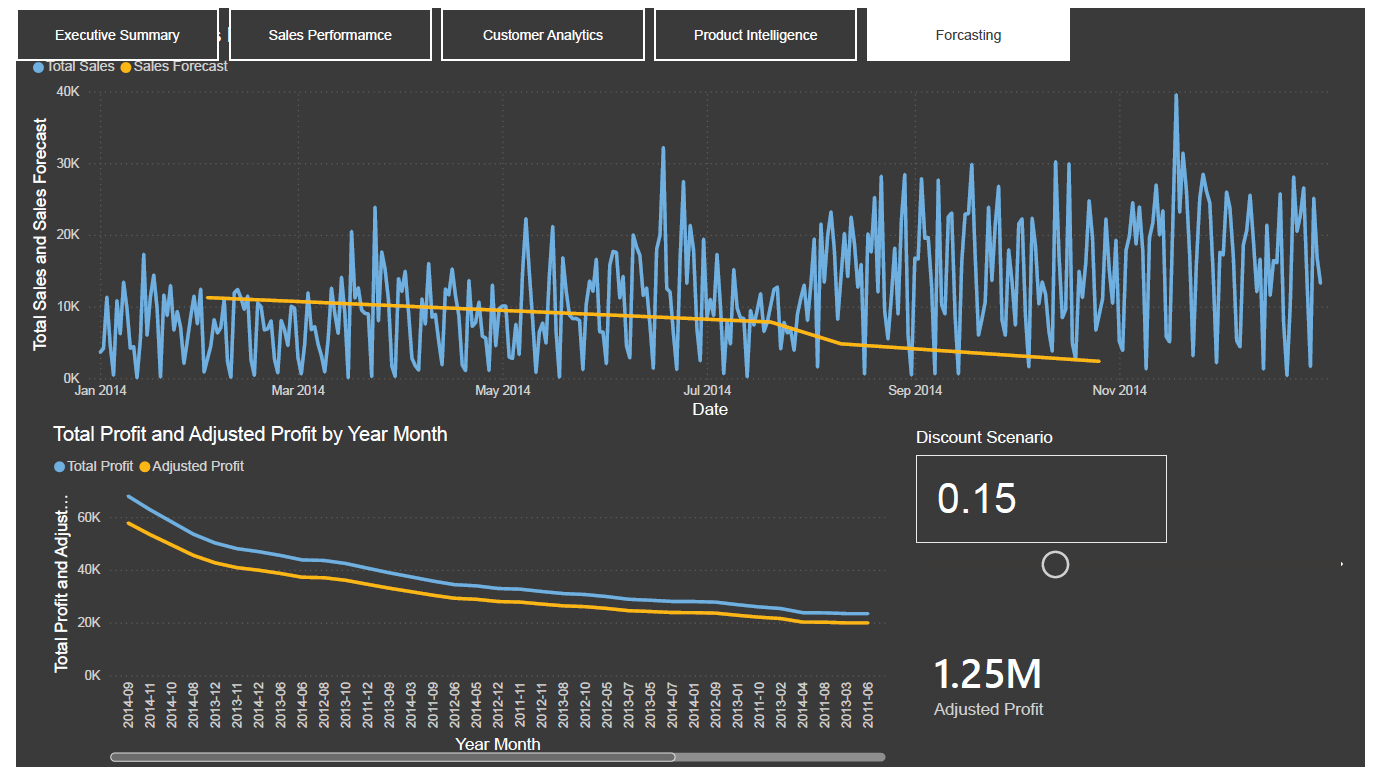

Layout of this report page (visuals, bound fields, positions):
{"tool":"powerbi","page":{"name":"Forcasting","canvas":[1280,720],"ordinal":4},"visuals":[{"type":"lineChart","fields":{"Y":["_Measures.Total Sales","_Measures.Sales Forecast"],"Category":["Dim_Date.Date"]},"box":[9.6,49.4,1259.7,344.4],"z":0},{"type":"slicer","fields":{"Values":["Discount Scenario.Discount Scenario"]},"box":[841.2,393.8,439.1,163.3],"z":1000},{"type":"lineChart","fields":{"Category":["Dim_Date.Year Month"],"Y":["_Measures.Total Profit","_Measures.Adjusted Profit"]},"box":[30.2,393.8,800,326.6],"z":2000},{"type":"cardVisual","fields":{"Data":["_Measures.Adjusted Profit"]},"box":[841.2,557.1,439.1,163.3],"z":3000},{"type":"pageNavigator","box":[0,0,1000,50],"z":4000}]}

Visuals, with their boxes on the page's 1280x720 design canvas (x1, y1, x2, y2). These are canvas units, not pixel positions in the 1376x783 screenshot, which may show the page scaled, cropped or inside an application window:
lineChart - _Measures.Total Sales x _Measures.Sales Forecast: <box>10,49,1269,394</box>
slicer - Discount Scenario.Discount Scenario: <box>841,394,1280,557</box>
lineChart - Dim_Date.Year Month x _Measures.Total Profit: <box>30,394,830,720</box>
cardVisual - _Measures.Adjusted Profit: <box>841,557,1280,720</box>
pageNavigator: <box>0,0,1000,50</box>
